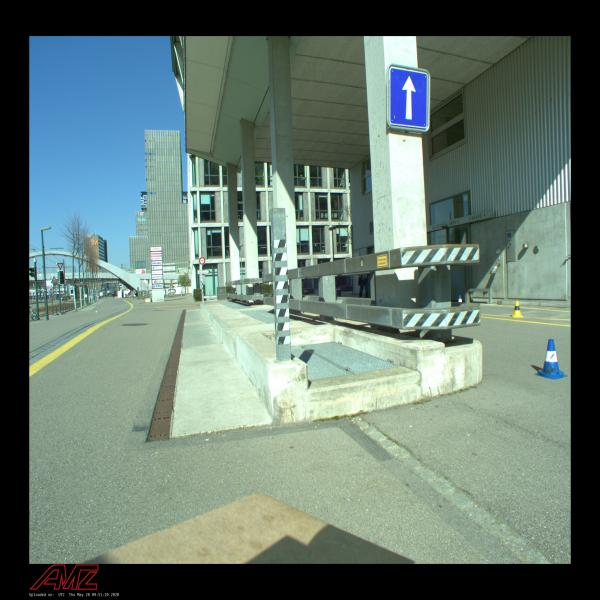blue_cone: (534, 339, 569, 380)
yellow_cone: (512, 301, 523, 318)
